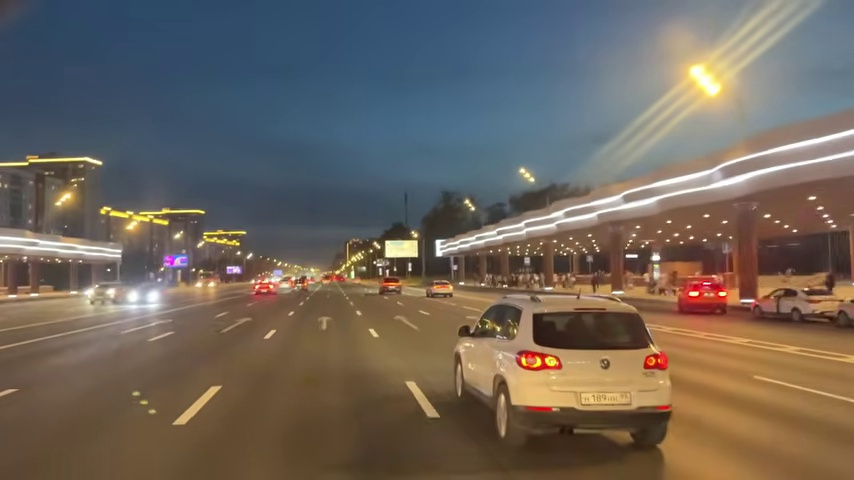acesa: (684, 62, 725, 102), (54, 188, 77, 209), (518, 167, 537, 186), (462, 196, 477, 213)
